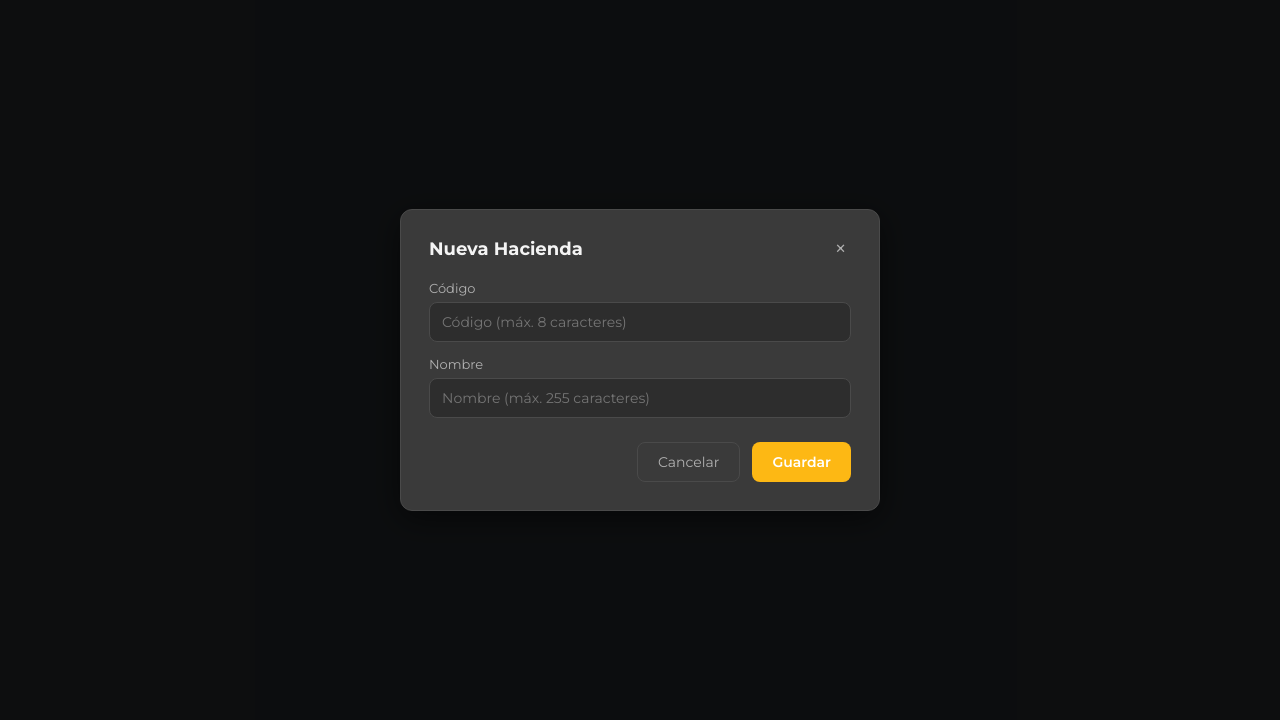
Scenario: HaciendaFormModal › Create mode (R8) › valida que Codigo es requerido
Click the button "Guardar" at (802, 462), box x1=752 y1=442 x2=851 y2=482
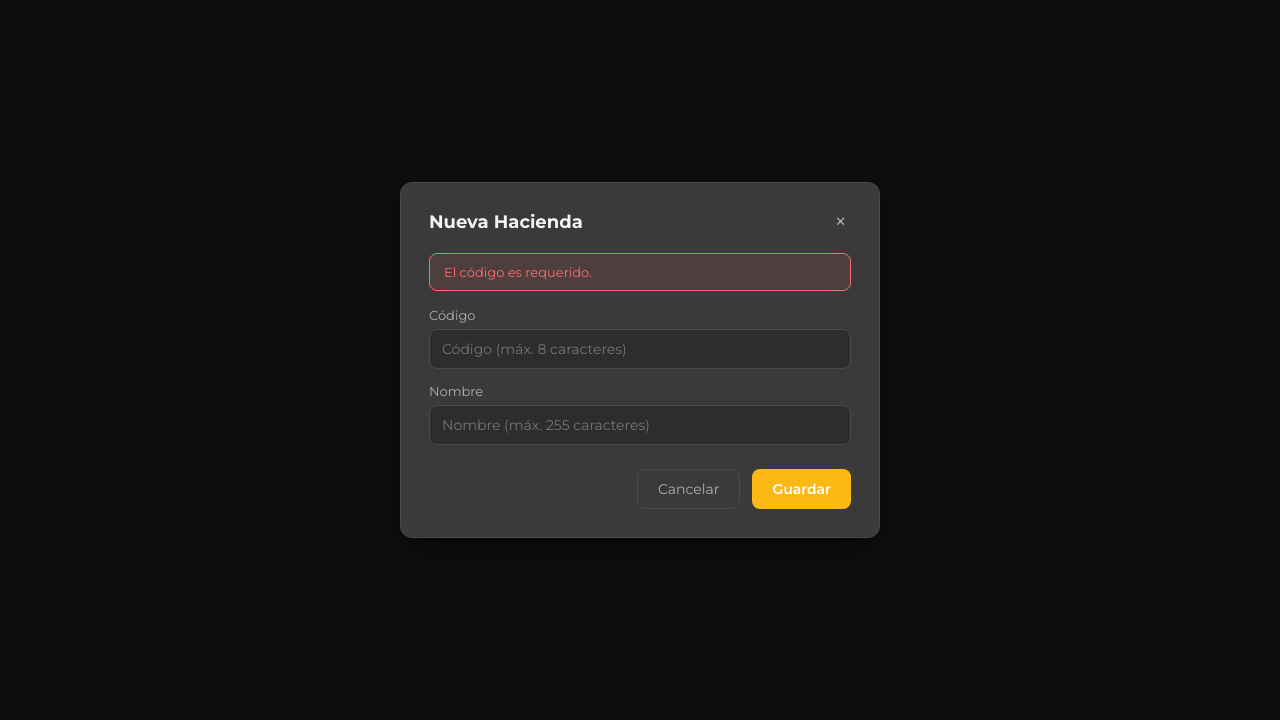
Check: the text "El código es requerido." is shown, box x1=429 y1=253 x2=851 y2=291
